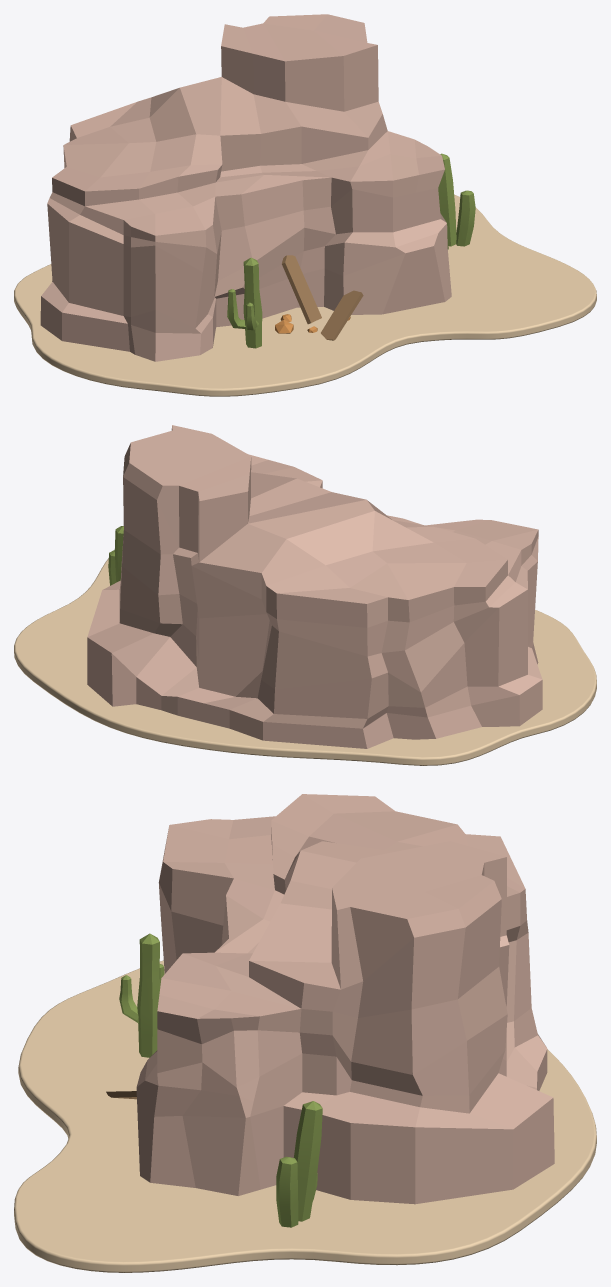
The model's file is desert2.glb.
3 views of the same model, one above another, from view 1: azimuth 30°, elevation 25°; view 2: azimuth 150°, elevation 25°; view 3: azimuth 270°, elevation 25° (orthographic). The views are drawn at different scales.
Parts seen in each view (by area): view 1: rock, floor, wood, cactus-2, cactus-1; view 2: rock, floor, cactus-2; view 3: rock, floor, cactus-2, cactus-1.
Boxes of the visible parts, x1,y1,x2,y2 form: rock: [40, 14, 451, 361]; floor: [14, 194, 596, 396]; wood: [282, 255, 363, 340]; cactus-2: [438, 153, 475, 249]; cactus-1: [227, 257, 262, 348]; rock: [87, 425, 542, 748]; floor: [14, 558, 596, 765]; cactus-2: [108, 526, 123, 585]; rock: [136, 794, 554, 1204]; floor: [14, 960, 596, 1272]; cactus-2: [276, 1101, 322, 1227]; cactus-1: [119, 933, 164, 1057].
Size of the model in its own units: 8 by 3.3 by 6.21.
